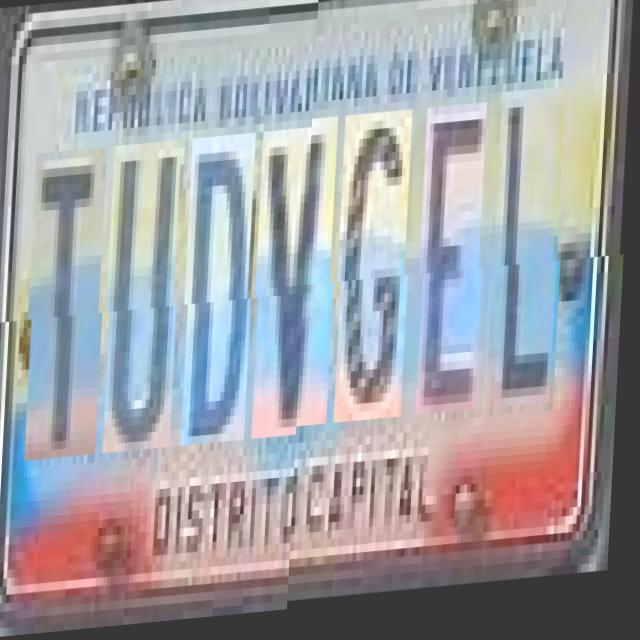D: (186, 138, 262, 450)
E: (420, 120, 492, 432)
G: (338, 125, 418, 438)
L: (494, 106, 570, 427)
T: (29, 148, 112, 462)
U: (108, 143, 188, 456)
V: (256, 132, 344, 444)
